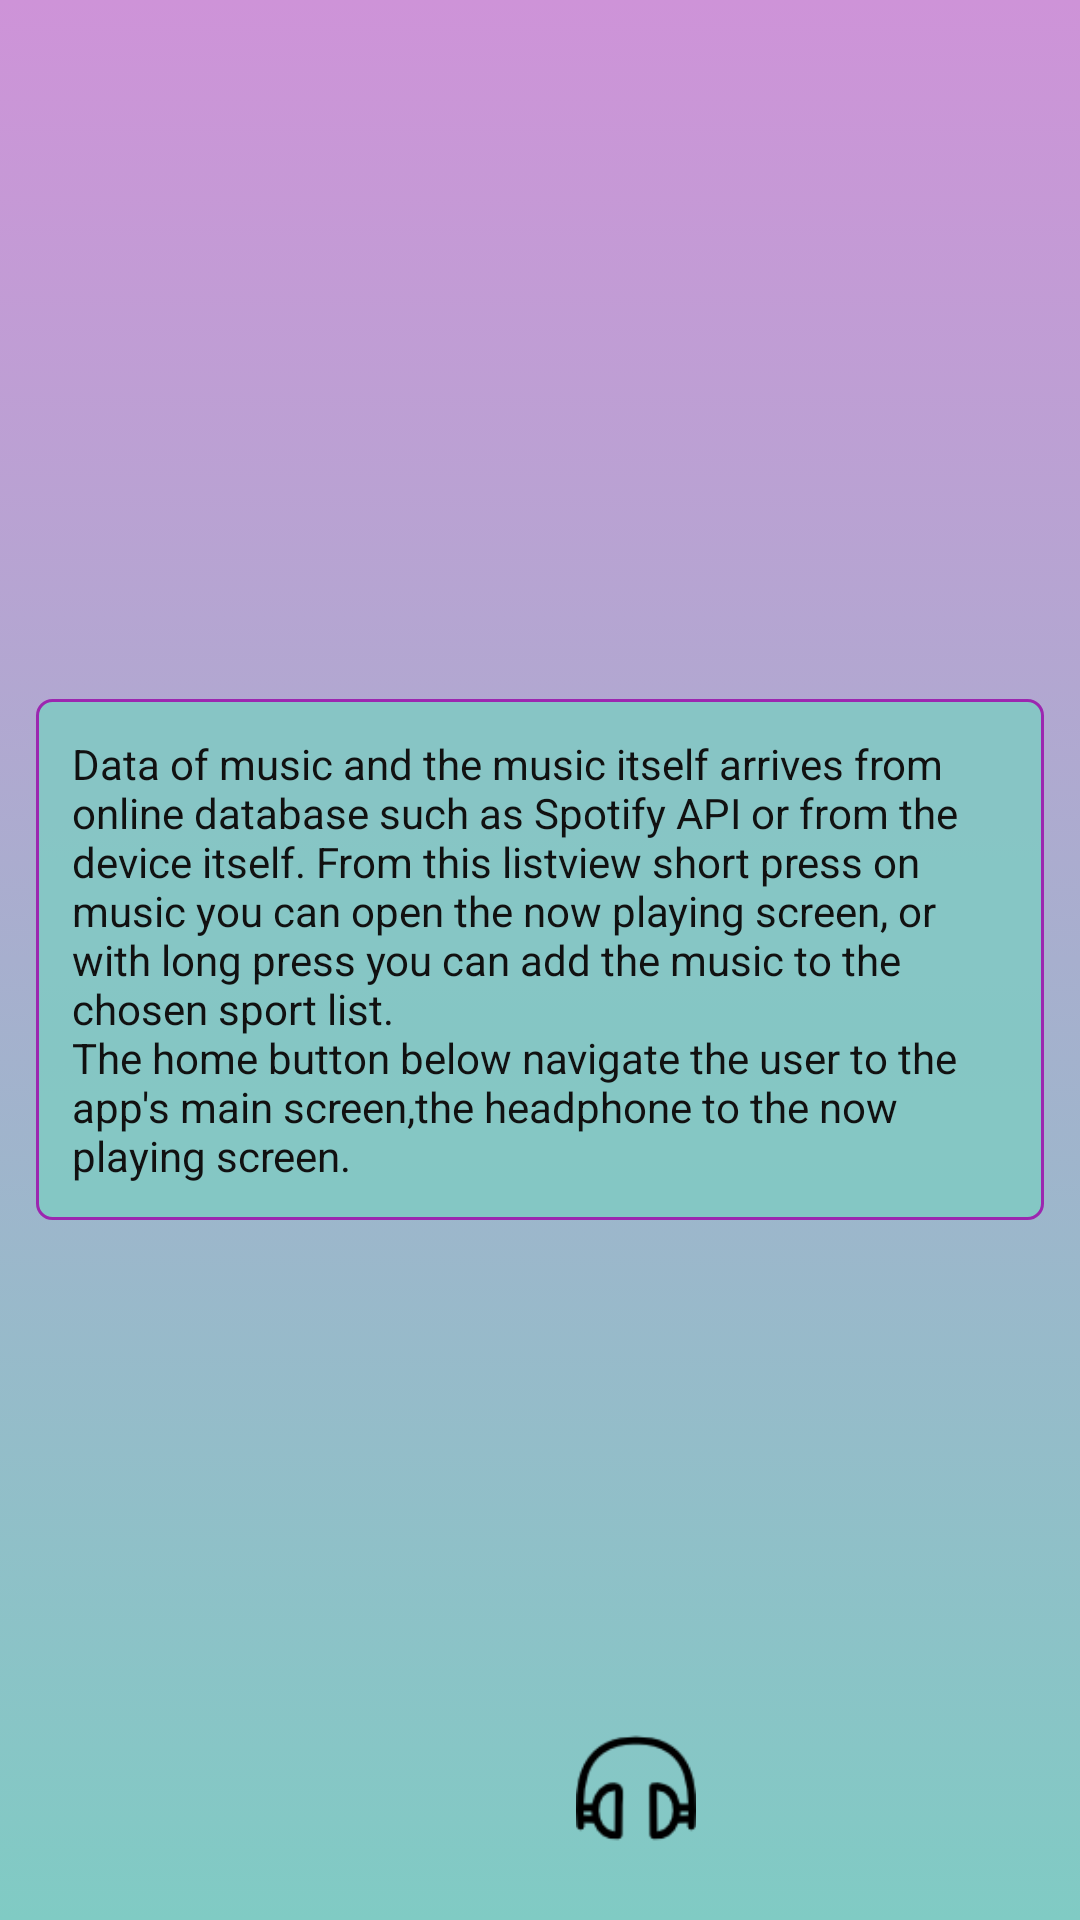

Locate icon controls on the screen. Image size 1080w x 1920h, boxes as (x1, y1, x2, y2).
nowplaying: (576, 1735, 696, 1840)
